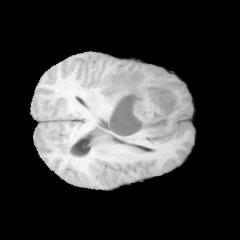glioma: (99, 67, 178, 141)
